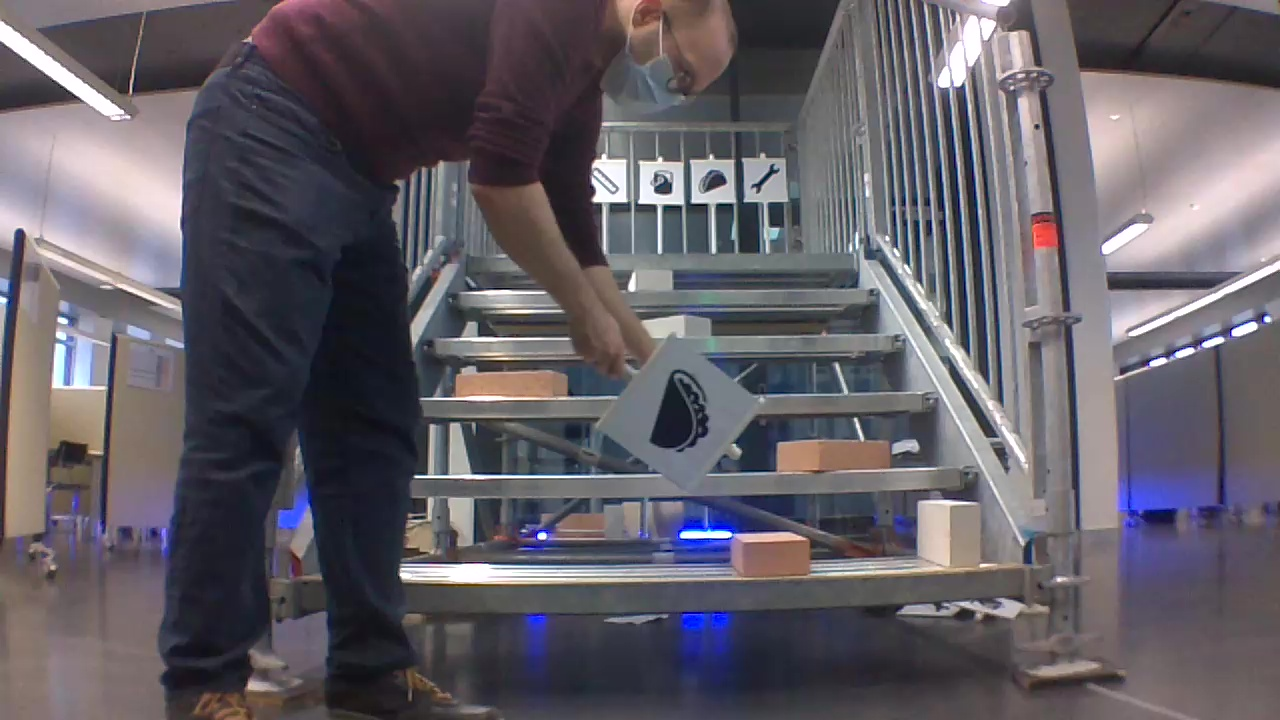brick: (915, 499, 981, 567), (731, 532, 807, 577), (777, 438, 886, 469), (457, 370, 563, 398), (648, 315, 709, 337), (629, 271, 670, 289)
bucket: (644, 167, 678, 197)
edge: (402, 567, 1025, 610), (416, 468, 974, 493)
ruler: (590, 165, 624, 199)
taco: (643, 364, 711, 458), (694, 166, 728, 196)
wrench: (745, 161, 783, 195)
